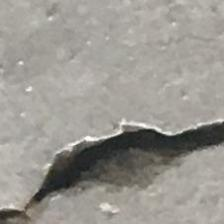Crack: (6, 101, 224, 224)
